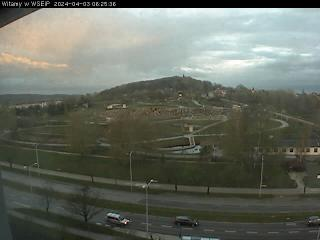car: (173, 214, 200, 228), (106, 212, 129, 226), (305, 214, 320, 227)
